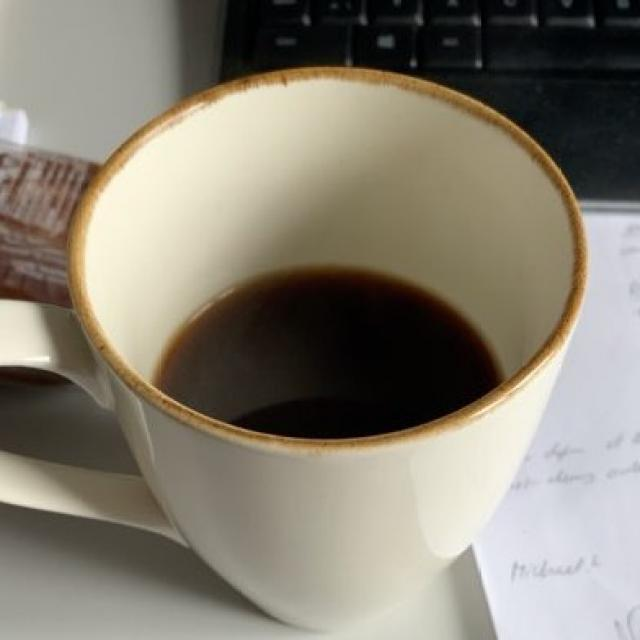coffee-with-caffeine: (166, 269, 497, 436)
